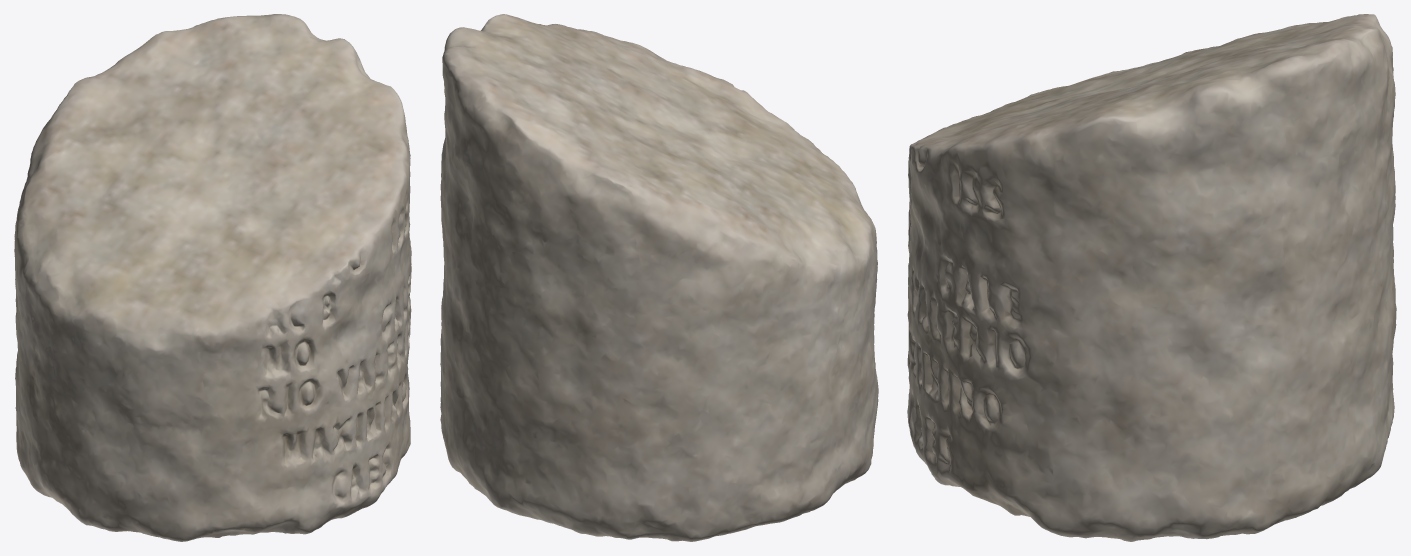
File: 15_PERD_maximino.glb
3 renders of one model, left to right at view 1: azimuth 30°, elevation 25°; view 2: azimuth 150°, elevation 25°; view 3: azimuth 270°, elevation 25°, orthographic. The views are drawn at different scales.
Parts seen in each view (by area): view 1: MAXIMINO_LP; view 2: MAXIMINO_LP; view 3: MAXIMINO_LP.
Boxes of the visible parts, <box> form: MAXIMINO_LP: <box>14,14,411,541</box>; MAXIMINO_LP: <box>440,14,878,541</box>; MAXIMINO_LP: <box>907,14,1396,541</box>.
Size of the model in its own units: 0.373 by 0.3971 by 0.3723.
1 material, 1 textured.
